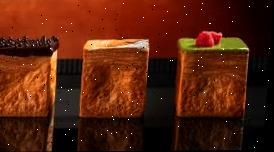cube: (173, 37, 252, 120), (79, 39, 152, 119)
